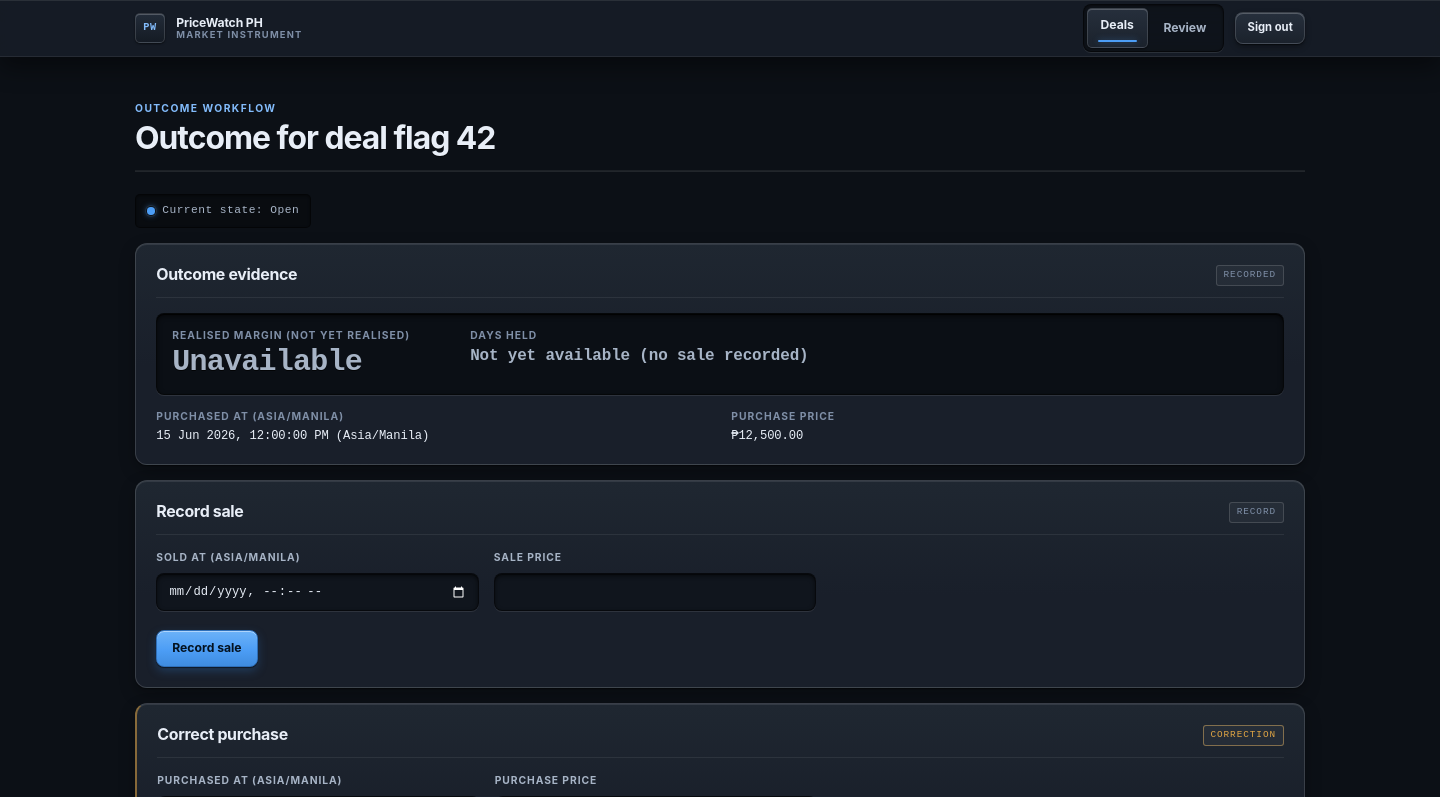
Test case: TASK_029 lifecycle transitions › records a sale from open and displays the returned days held and realised margin
Type "2026-06-16T12:00" into the field labelled "Sold at (Asia/Manila)" at (318, 592), box [156,573,479,611]
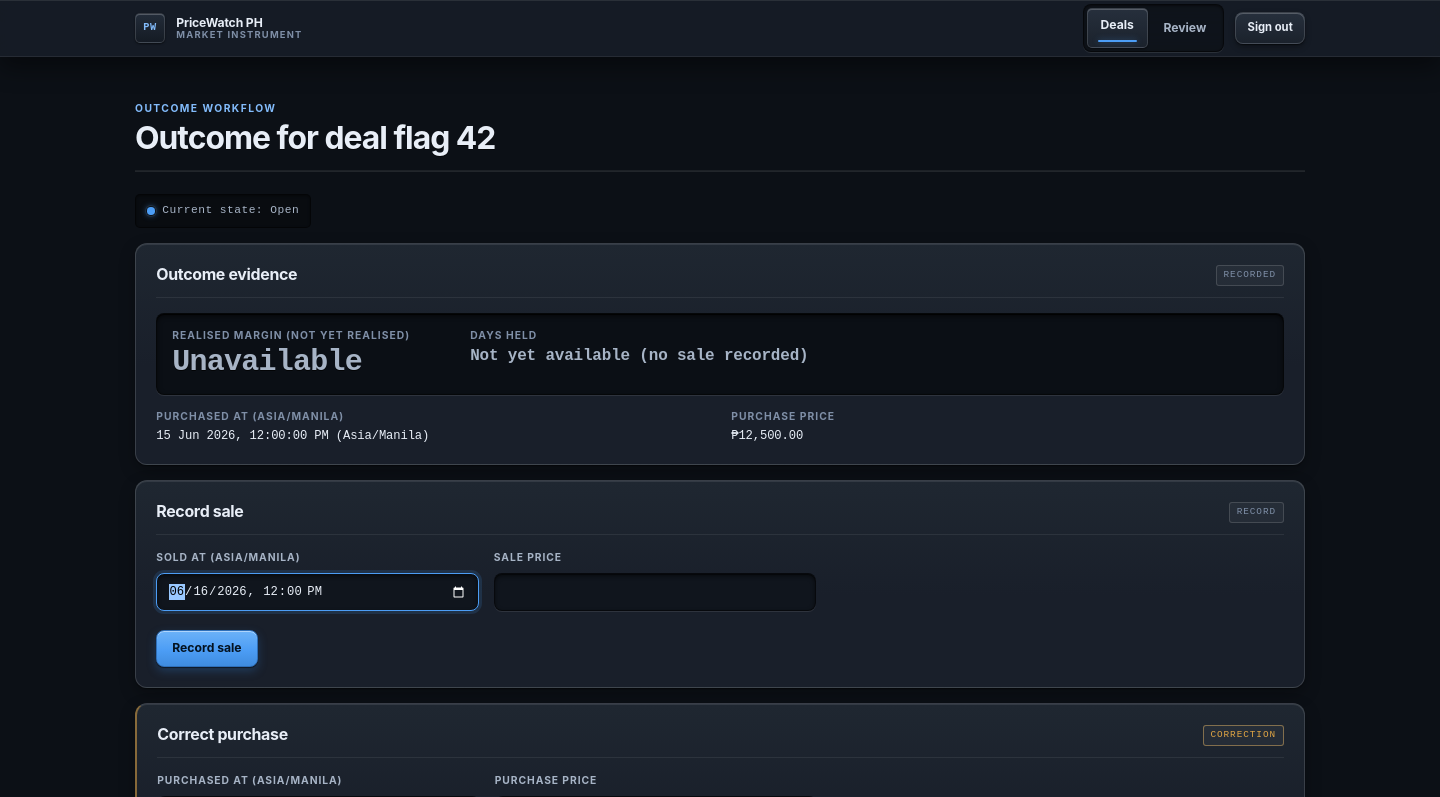
Type "14000.00" into the field labelled "Sale price" at (655, 592), box [494,573,816,611]
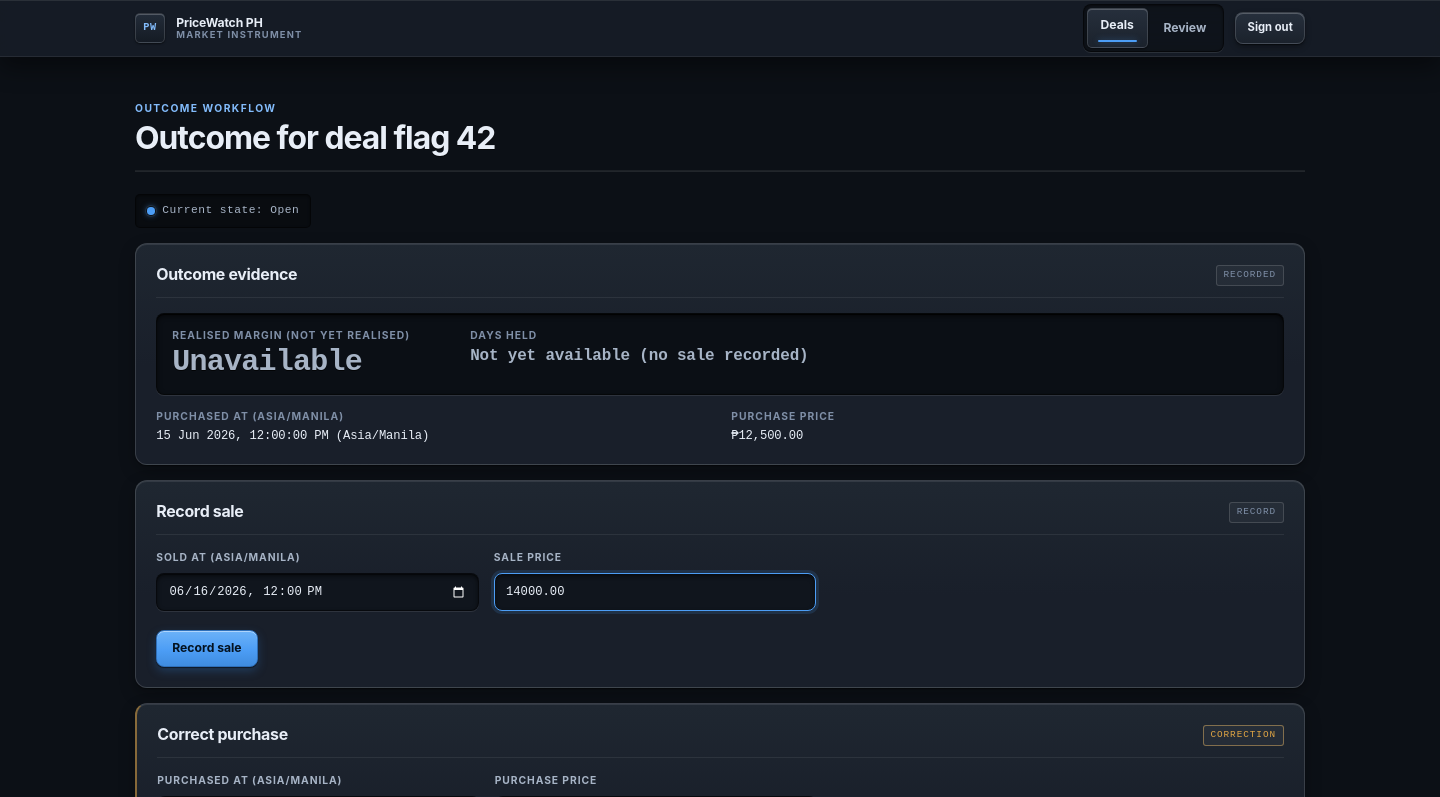
Click the button "Record sale" at (207, 648), box [156,630,258,667]
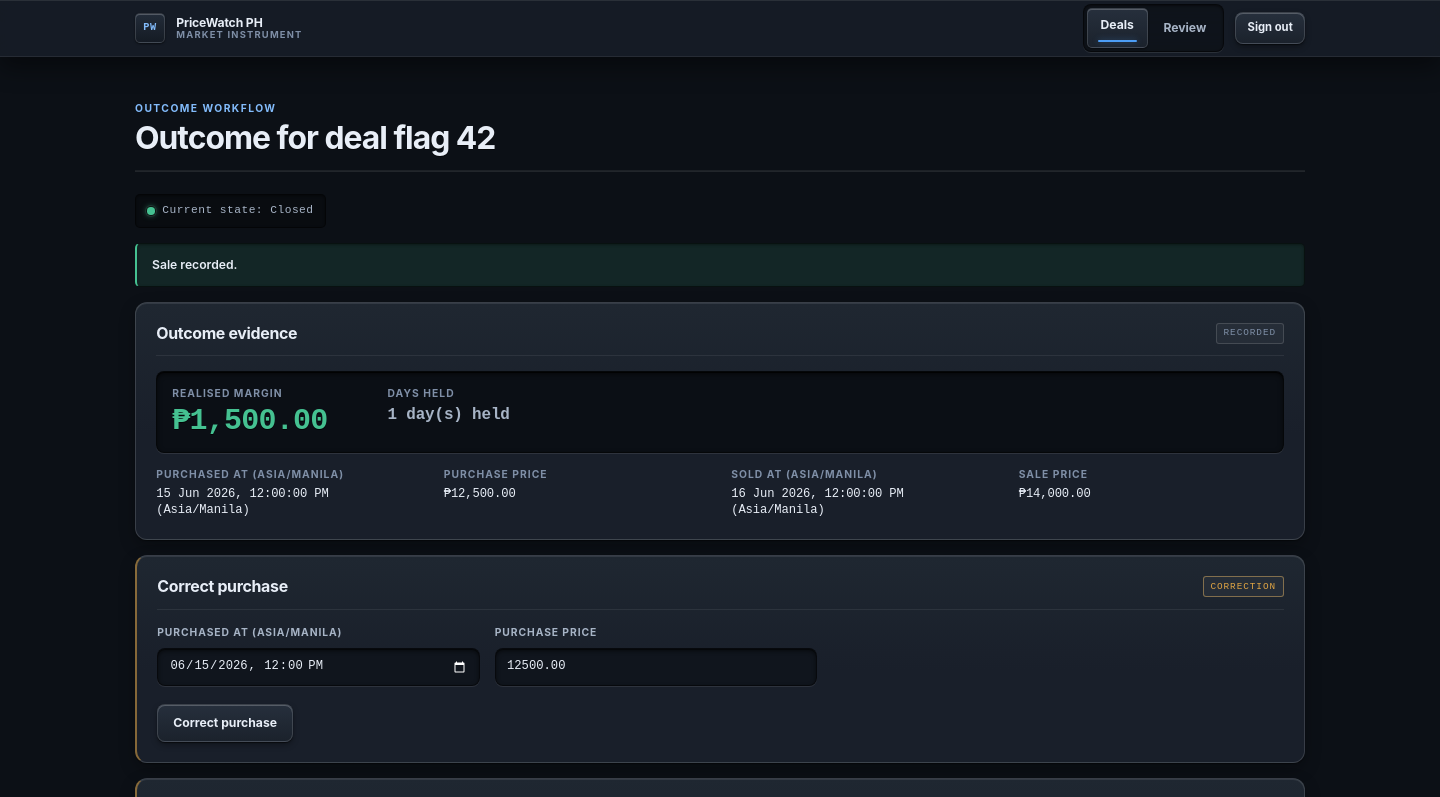
Expected: the text "Sale recorded." is shown, [135,243,1305,287]
Expected: the text "Current state: Closed" is shown, [135,194,326,228]
Expected: the text "1 day(s) held" is shown, [388,405,510,426]
